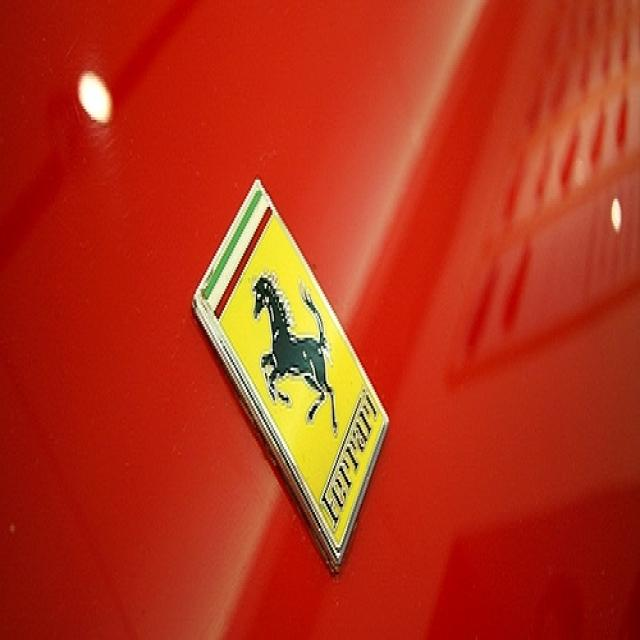ferrari: (202, 183, 389, 554)
